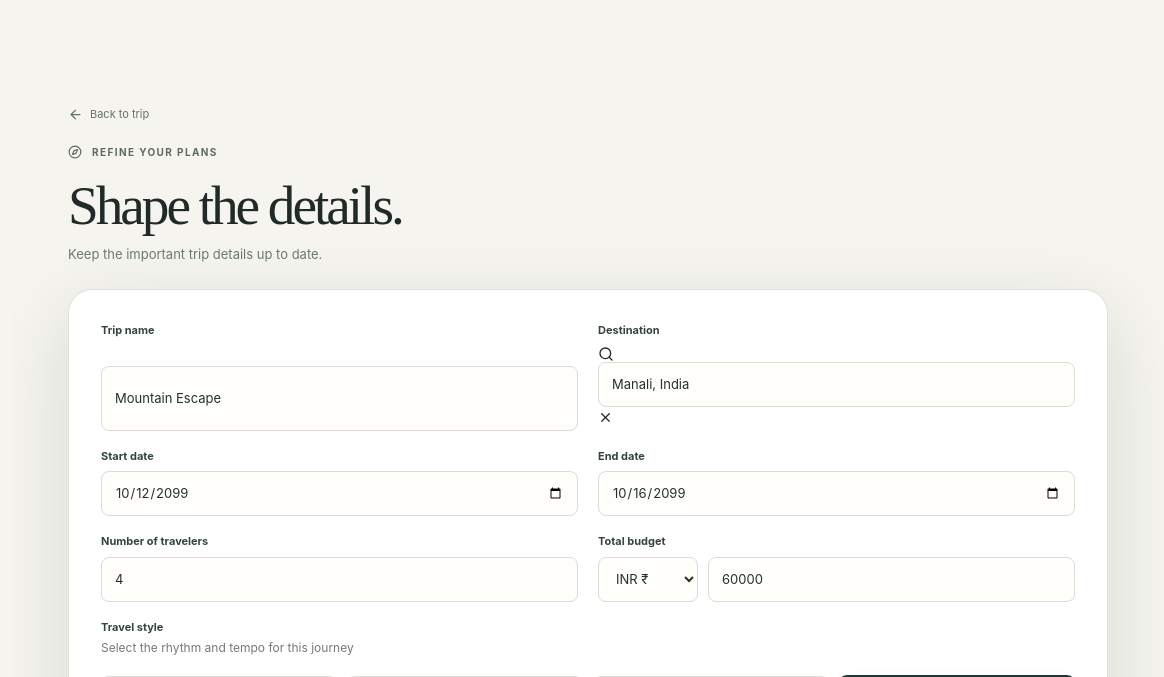
Scenario: trip pages › loads the shared form for editing and saves the updated trip
Type "A Northern Escape" into the field labelled "Trip name".
click(340, 398); type("A Northern Escape")  # box [101,366,578,431]
(page scrolled)
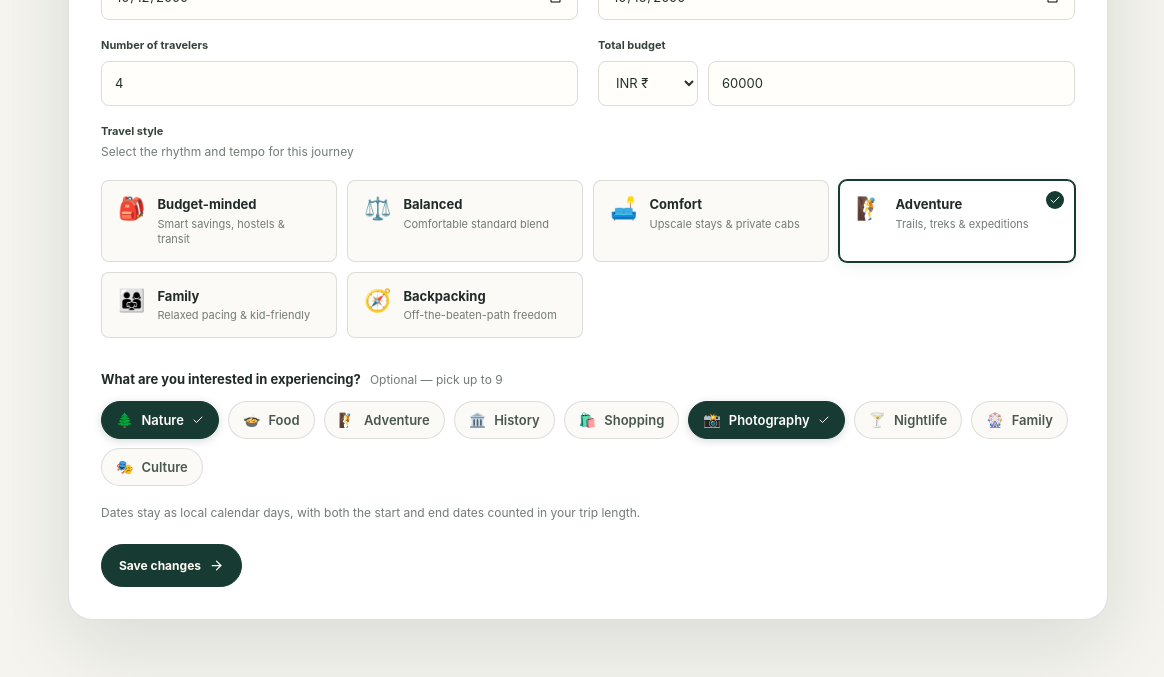
Click the button "Save changes".
click(172, 566)  # box [101,544,242,587]
(page scrolled)
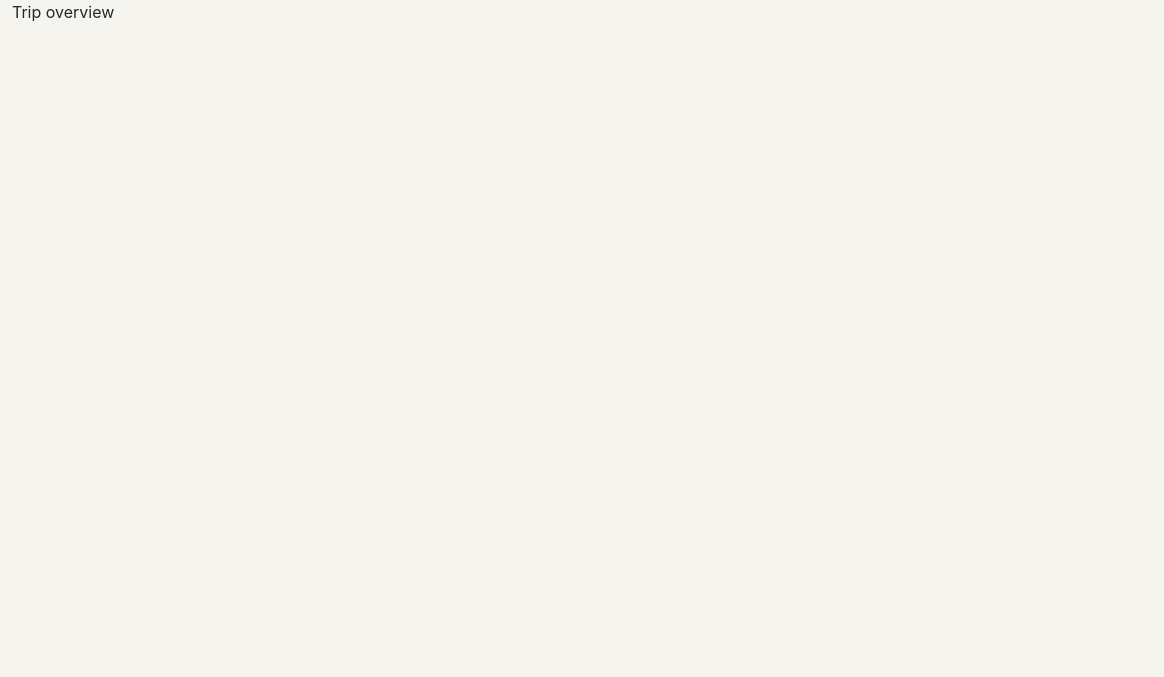
Expected: the text "Trip overview" is shown, [12,2,114,22]
